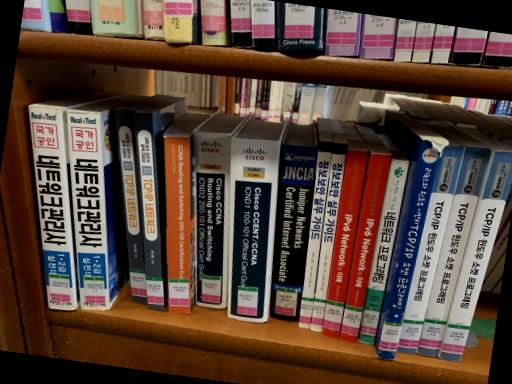book-spine: (417, 146, 491, 357), (438, 151, 512, 361), (396, 146, 465, 353), (377, 139, 440, 360), (340, 153, 390, 343), (229, 137, 280, 322), (29, 105, 75, 309), (358, 160, 409, 344), (269, 144, 318, 322), (66, 110, 109, 310), (323, 150, 368, 338), (310, 143, 347, 332), (113, 108, 147, 304), (298, 140, 333, 329), (193, 131, 230, 309), (133, 112, 164, 310), (164, 136, 190, 313)
